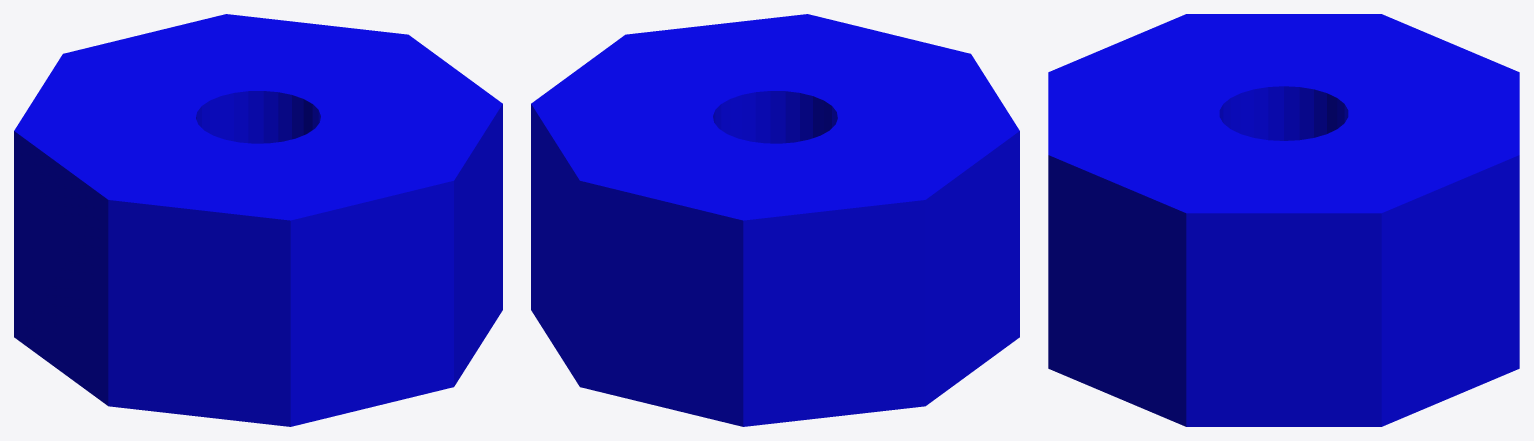
The model's file is blue_octagonal_prism.dae.
3 views of the same model, side by side, from view 1: azimuth 30°, elevation 25°; view 2: azimuth 150°, elevation 25°; view 3: azimuth 270°, elevation 25° (orthographic). The views are drawn at different scales.
Parts seen in each view (by area): view 1: node0; view 2: node0; view 3: node0.
Part boxes in pixels (x1,y1,x2,y2): node0: [14, 14, 502, 426]; node0: [531, 14, 1019, 426]; node0: [1048, 14, 1519, 426].
Size of the model in its own units: 0.02 by 0.02 by 0.01.
